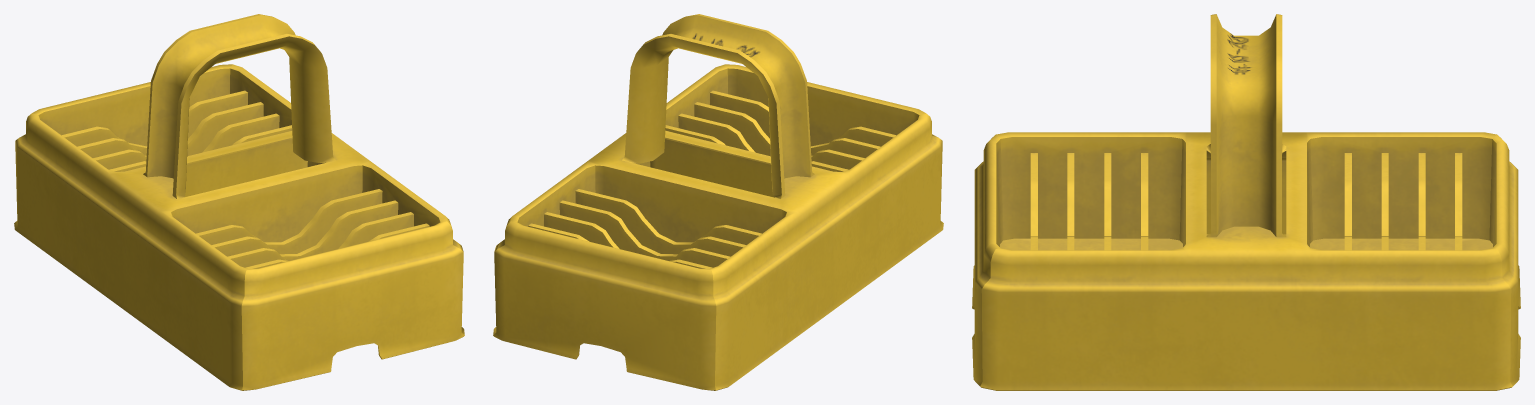
Rendered from SM_Calculator_and_Case_01a.fbx.
3 views of the same model, side by side, from view 1: azimuth 30°, elevation 25°; view 2: azimuth 150°, elevation 25°; view 3: azimuth 270°, elevation 25° (orthographic). The views are drawn at different scales.
Visible parts, largest first — view 1: SM_Calculator_and_Case_01a_LOD0; view 2: SM_Calculator_and_Case_01a_LOD0; view 3: SM_Calculator_and_Case_01a_LOD0.
Boxes of the visible parts, x1,y1,x2,y2 form: SM_Calculator_and_Case_01a_LOD0: (14,14,464,390); SM_Calculator_and_Case_01a_LOD0: (493,14,943,390); SM_Calculator_and_Case_01a_LOD0: (972,14,1520,390).
Size of the model in its own units: 17.52 by 30.26 by 17.66.
1 material, 1 textured.
